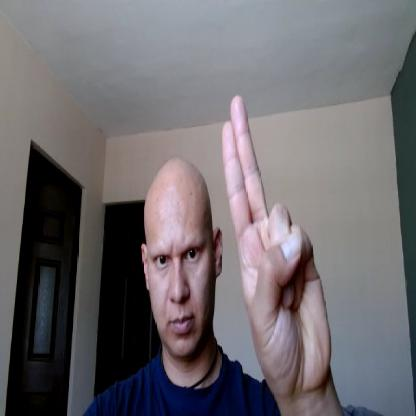U: (222, 93, 331, 389)
